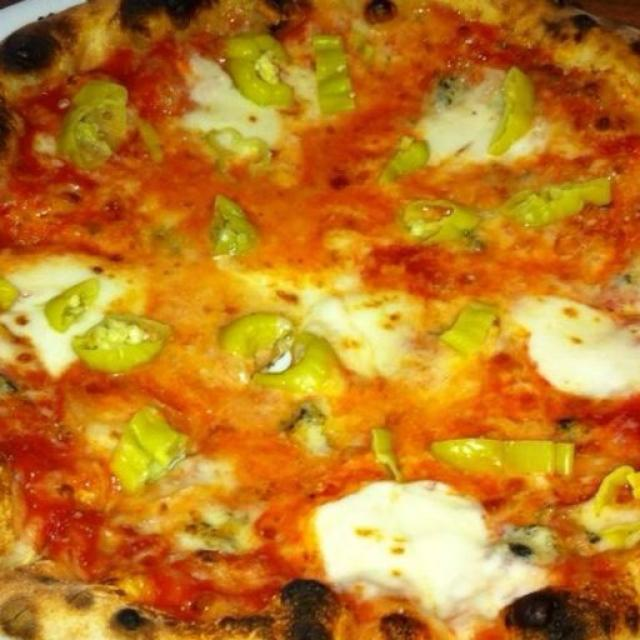Cheese: (317, 485, 547, 619), (511, 295, 640, 400), (2, 262, 108, 376), (308, 285, 414, 373), (185, 75, 267, 134), (422, 74, 498, 133)
Pizza: (0, 0, 640, 640)
